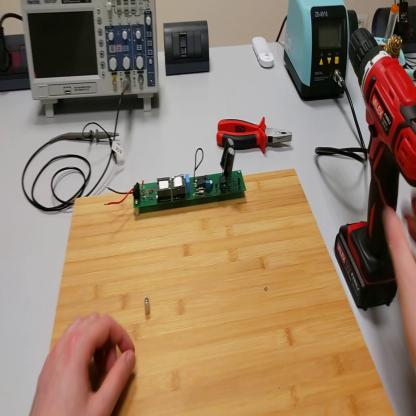electric screwdriver: (334, 27, 416, 312)
hand: (32, 312, 138, 415), (382, 197, 416, 370)
high voltage board: (105, 138, 249, 214)
oscilloscope: (22, 1, 159, 124)
oscilloscope probe tip: (66, 128, 123, 144)
pliers: (217, 120, 297, 156)
socket: (373, 2, 416, 52), (2, 34, 32, 96), (350, 9, 360, 30)
welder base: (376, 7, 411, 66)
welder station: (285, 1, 350, 103)
working area: (50, 167, 396, 414)
